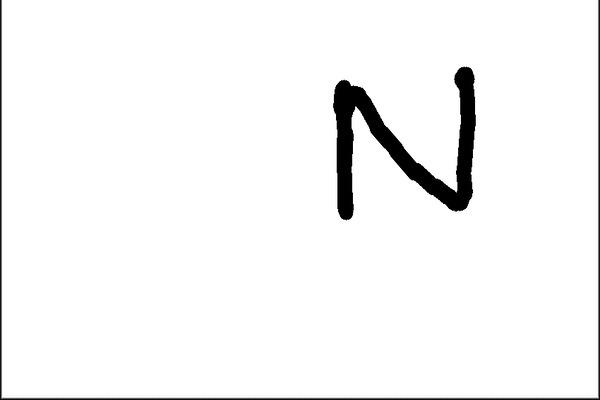N: (327, 62, 480, 223)
